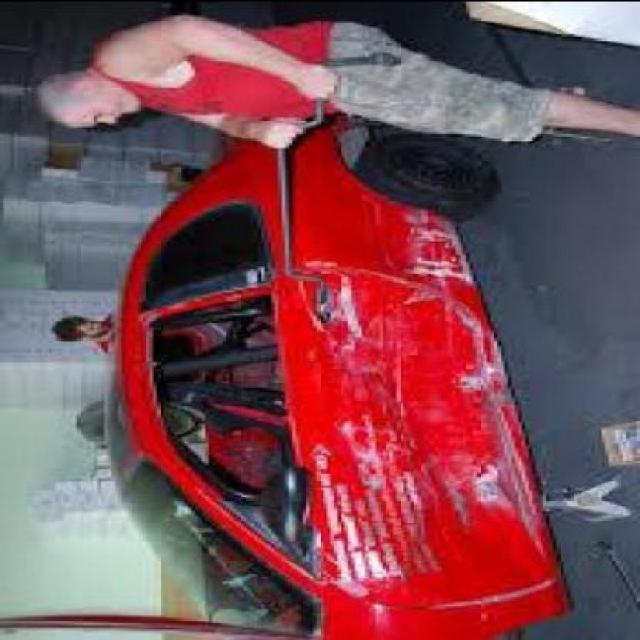damage: (271, 206, 542, 609)
